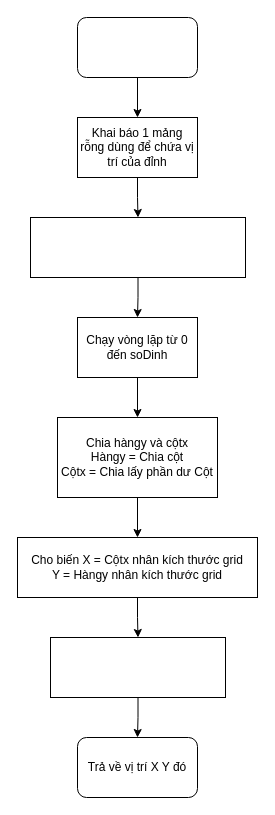
Some shapes in this 275 by 815 pixel diagram are drawn without their labels. Each missing label, with the centre of its shape:
"Bắt đầu tính toán vị trí toạ độ đỉnh" goes at [137,47].
"Chia hàng và cột. hàng = căn bậc hai của số đỉnh cột = số đỉnh chia hàng" goes at [138,247].
"Vị trí đỉnh sẽ bằng X Y đã tính" goes at [138,667].
